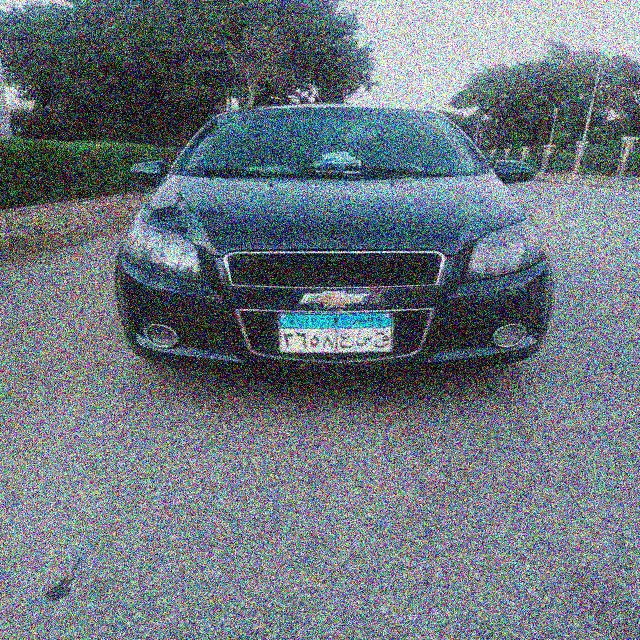License Plate: (276, 311, 395, 355)
